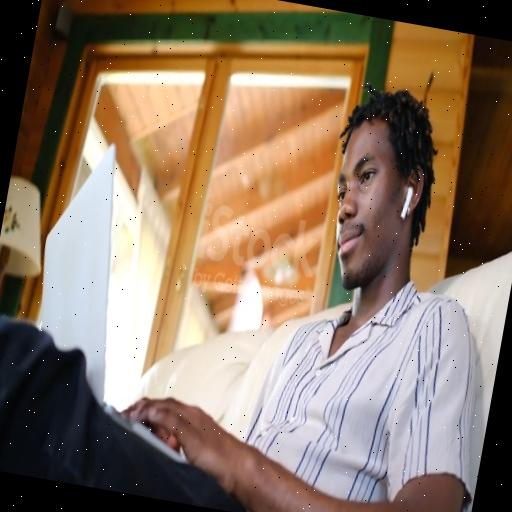earphone: (396, 182, 419, 229)
